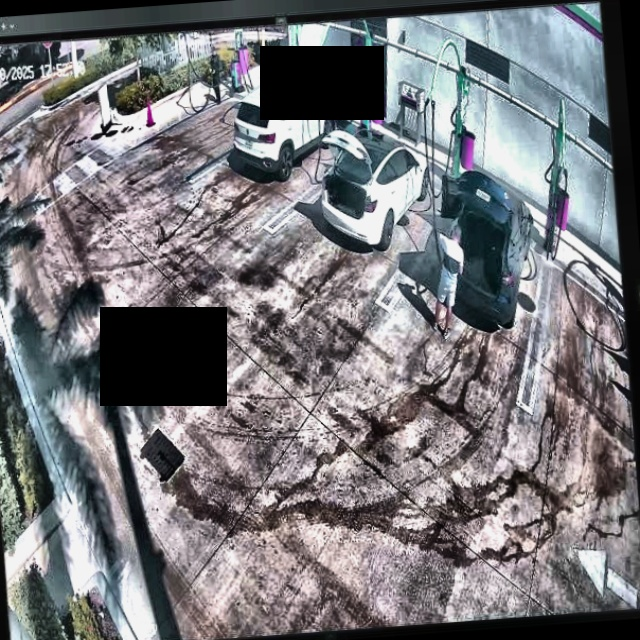Car: (436, 167, 539, 327), (316, 123, 435, 255), (220, 71, 338, 180)
